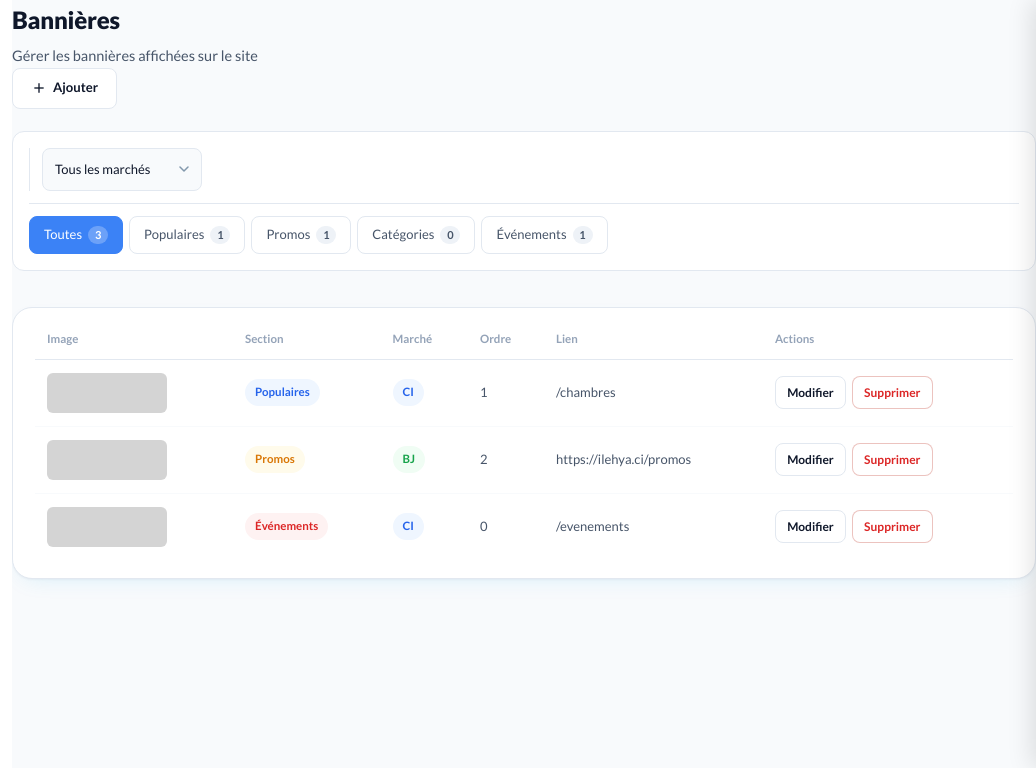
it: AdminBannersPage › pré-remplit le panneau quand on modifie une bannière
The image size is (1036, 768).
Check: the table is shown, box [35,330,1013,560]
What coordinates should you click on to do the following:
click the button "Modifier" next to "/chambres"
I would click on:
 (810, 393)
Its box is [775,376,846,409].
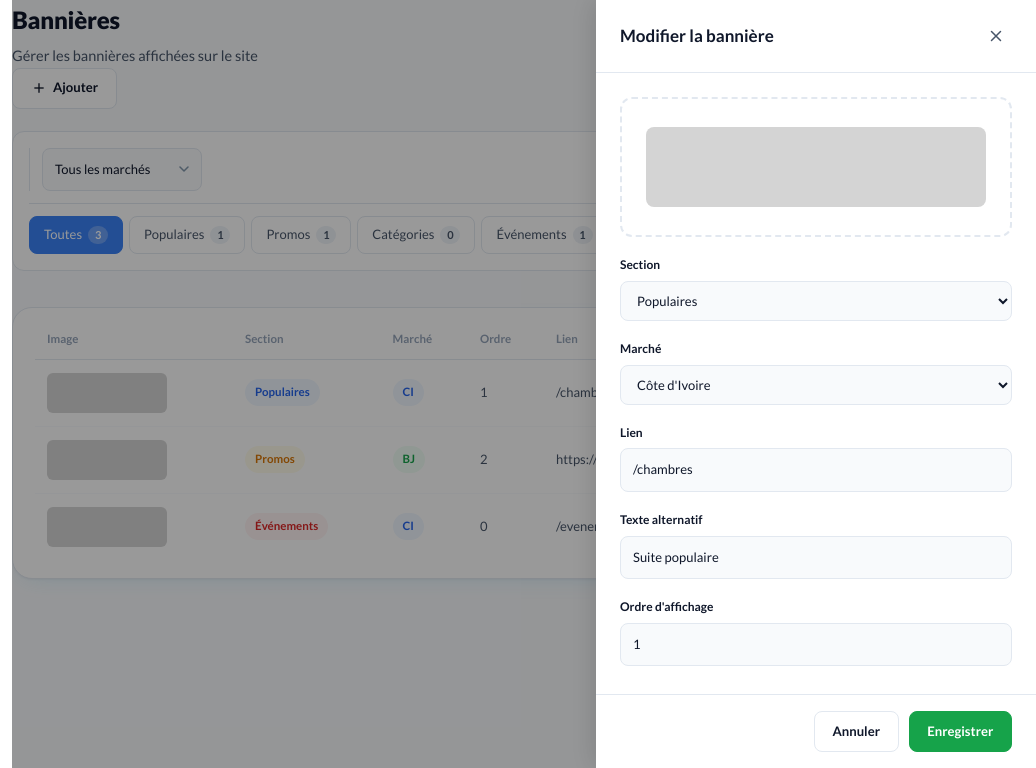
Check: the heading "Modifier la bannière" is shown, box [620,22,774,50]
Check: the field with placeholder "https://..." holds "/chambres", box [620,448,1012,492]
Check: the field with placeholder "Description de la bannière" holds "Suite populaire", box [620,536,1012,579]
